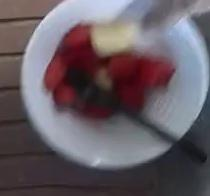fruit: (44, 24, 173, 116)
